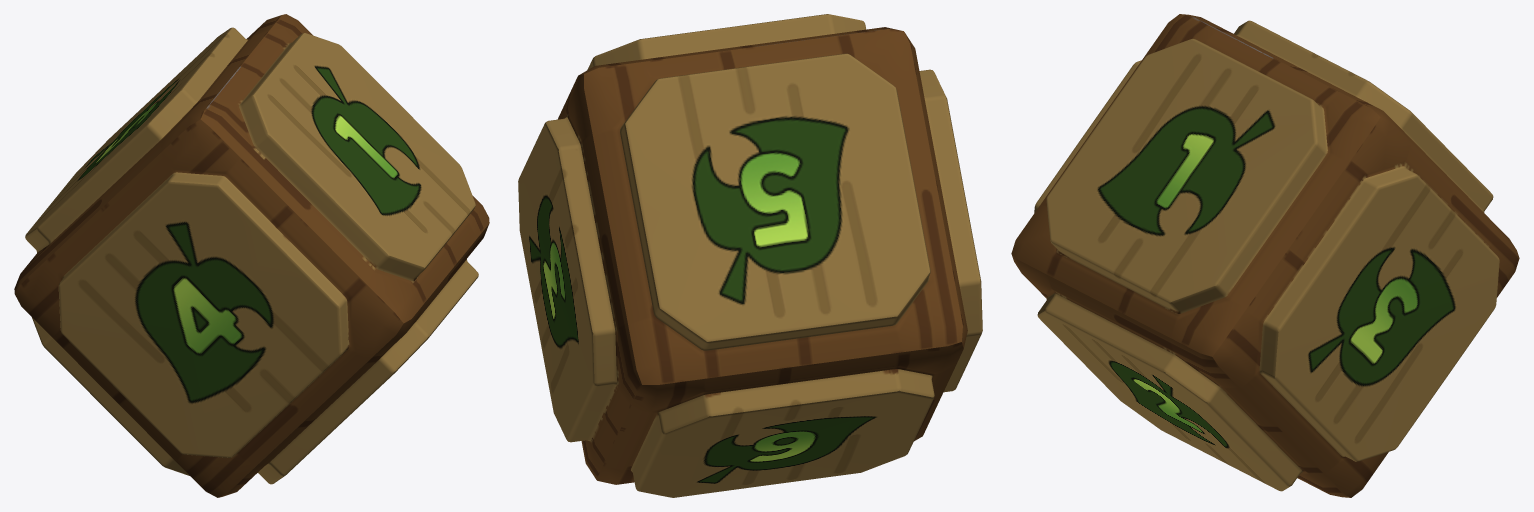
File: dice-3.glb
3 views of the same model, side by side, from view 1: azimuth 30°, elevation 25°; view 2: azimuth 150°, elevation 25°; view 3: azimuth 270°, elevation 25° (orthographic). The views are drawn at different scales.
Visible parts, largest first — view 1: dice_03; view 2: dice_03; view 3: dice_03.
Part boxes in pixels (x1,y1,x2,y2): dice_03: (14, 14, 489, 497); dice_03: (518, 14, 982, 497); dice_03: (1011, 14, 1519, 497).
Size of the model in its own units: 4.44 by 3.91 by 4.49.
1 material, 1 textured.
